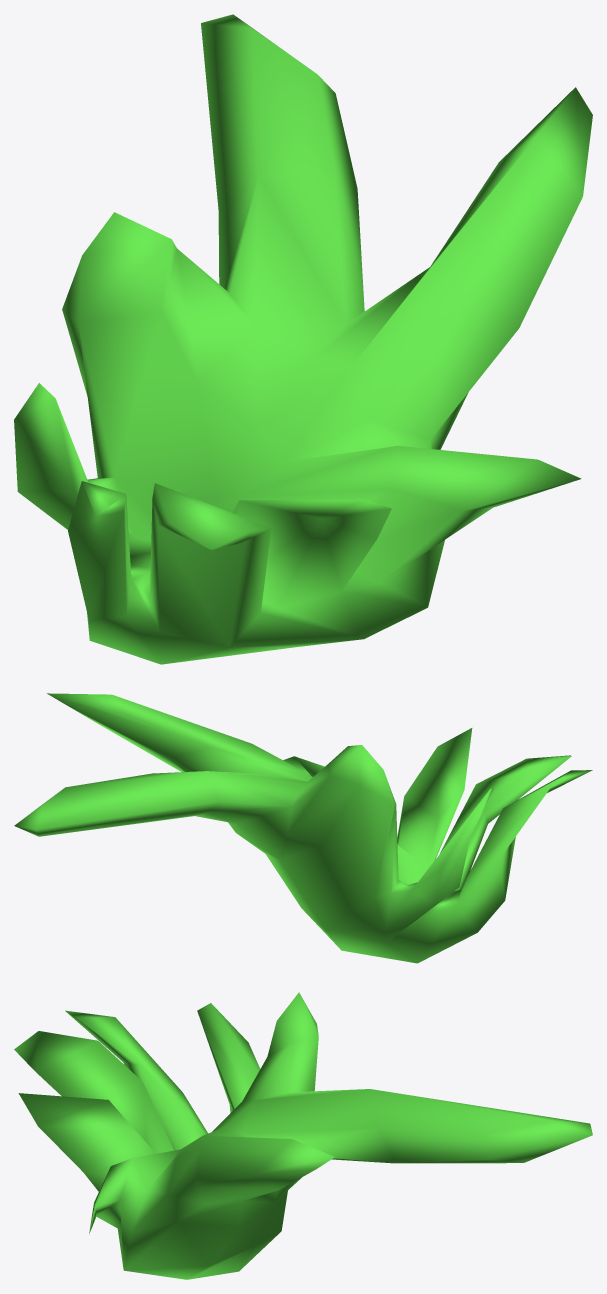
The model's file is grass-d.glb.
The picture shows the model from 3 angles, top to bottom: view 1: azimuth 30°, elevation 25°; view 2: azimuth 150°, elevation 25°; view 3: azimuth 270°, elevation 25°; orthographic projection. The views are drawn at different scales.
Visible parts, largest first — view 1: grass-d; view 2: grass-d; view 3: grass-d.
Part boxes in pixels (bbox=[...]): grass-d: bbox=[14, 14, 592, 664]; grass-d: bbox=[14, 693, 592, 963]; grass-d: bbox=[14, 992, 592, 1279].
Size of the model in its own units: 1.95 by 1.07 by 2.18.
